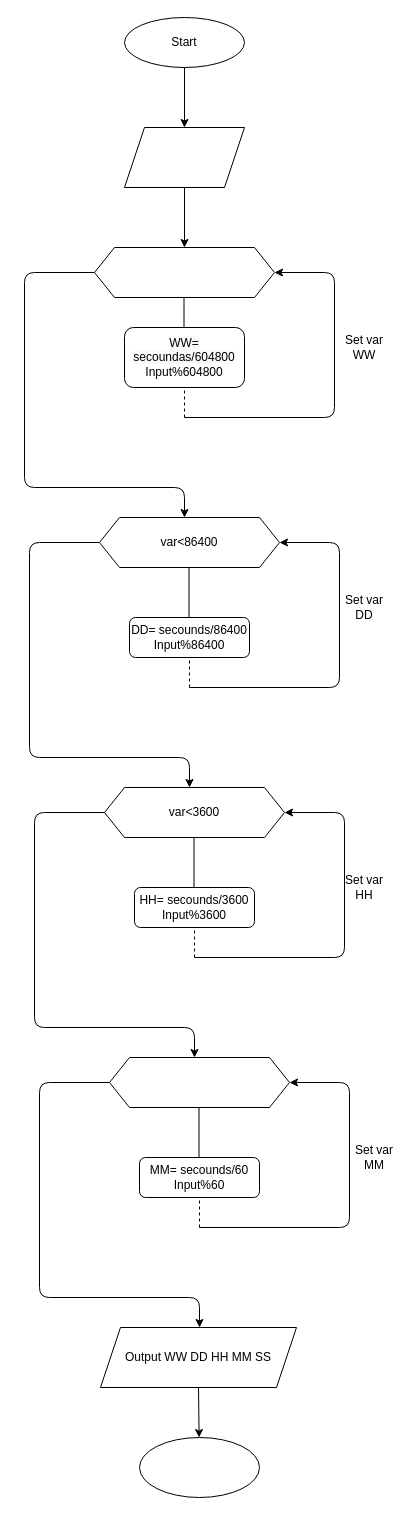
The diagram is 412 pixels wide and 1515 high, and some of its shapes have lost their labels. The centre of each missing label's shape, as x and y in pixels:
"End" belongs at pixel 199 1467.
"Input secounds" belongs at pixel 184 157.
"var<60" belongs at pixel 199 1082.
"var<604800" belongs at pixel 184 272.
